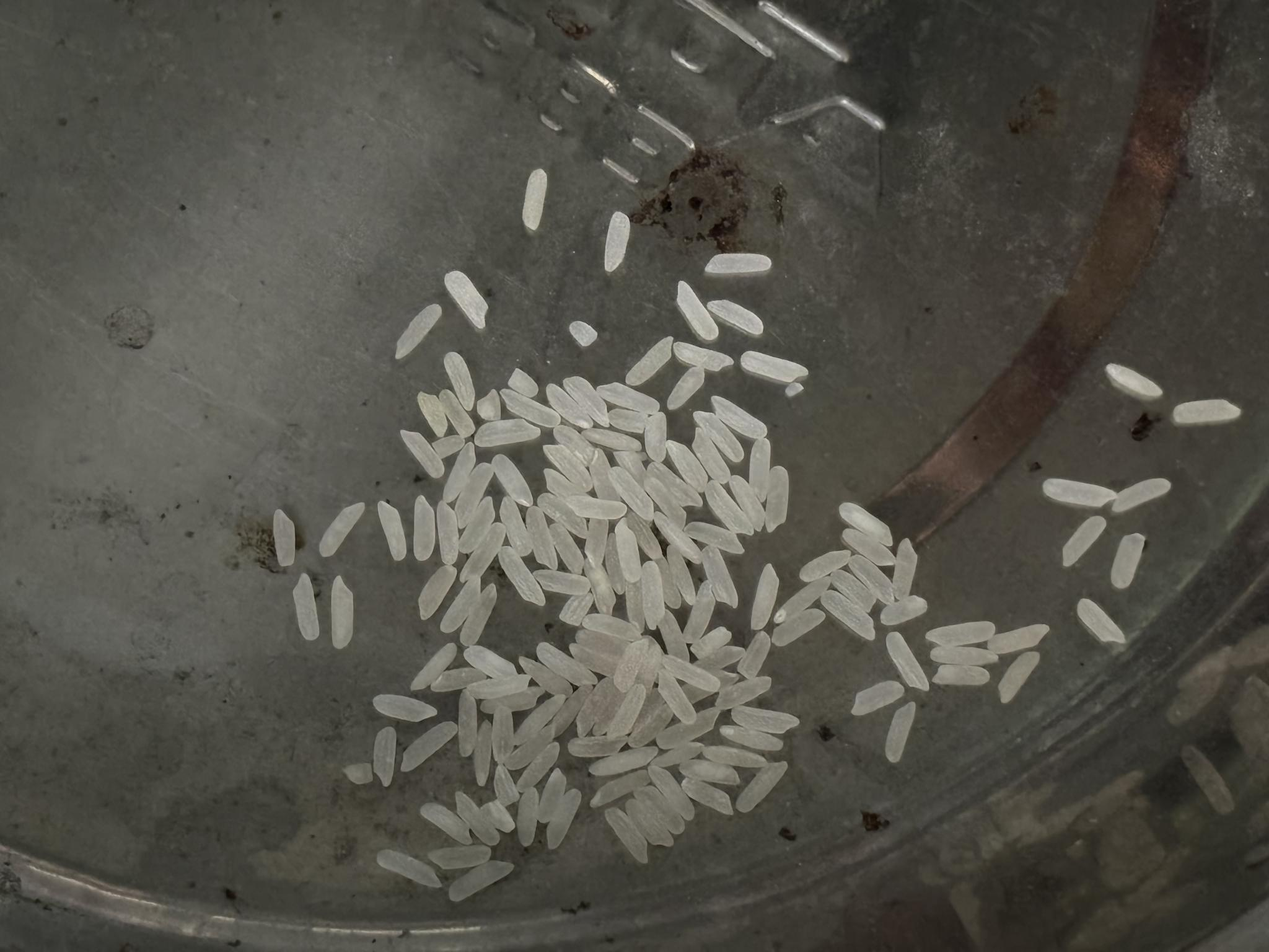Rice-th-y-nh: (545, 483, 627, 529), (655, 701, 722, 756), (447, 853, 515, 907), (398, 717, 459, 775), (376, 843, 443, 895), (496, 544, 547, 609), (535, 637, 597, 690), (499, 383, 562, 435), (573, 674, 623, 739), (820, 587, 876, 645), (590, 738, 659, 785), (459, 520, 508, 586), (450, 461, 496, 530), (646, 457, 703, 512), (590, 763, 652, 813), (774, 572, 831, 626), (696, 544, 743, 609), (475, 411, 542, 456), (703, 479, 753, 539), (317, 499, 367, 559), (647, 762, 696, 823), (684, 512, 745, 561), (631, 560, 673, 631), (883, 631, 931, 693), (546, 682, 594, 744), (693, 407, 745, 464), (736, 758, 788, 815), (514, 690, 565, 747), (394, 302, 443, 361), (603, 806, 650, 867), (678, 581, 722, 646), (427, 835, 492, 879), (771, 602, 827, 653), (711, 392, 767, 443), (444, 268, 490, 330), (608, 465, 656, 524), (537, 487, 589, 541), (653, 509, 702, 566), (674, 280, 719, 342), (757, 465, 798, 533), (453, 790, 501, 848), (521, 506, 563, 572), (439, 575, 485, 635), (745, 563, 785, 632), (518, 651, 573, 701), (847, 551, 897, 606), (704, 245, 772, 285), (543, 789, 586, 852), (543, 440, 594, 493), (604, 683, 649, 743), (625, 335, 675, 389), (584, 448, 624, 515), (466, 666, 531, 707), (622, 797, 674, 848), (660, 544, 702, 607), (495, 495, 536, 559), (420, 798, 472, 848), (414, 562, 458, 621), (654, 667, 698, 726), (1074, 597, 1128, 645), (627, 698, 675, 752), (398, 426, 445, 481), (439, 441, 480, 504), (664, 438, 709, 495), (563, 374, 611, 427), (690, 427, 733, 486), (516, 740, 562, 795), (490, 452, 535, 508), (449, 689, 486, 757), (610, 518, 648, 584), (372, 500, 413, 561), (636, 785, 687, 834), (410, 641, 458, 693), (727, 474, 770, 532), (1061, 514, 1108, 567), (996, 650, 1043, 703), (1042, 476, 1115, 510), (430, 659, 489, 701), (643, 474, 688, 529), (464, 721, 502, 786), (611, 635, 652, 695), (457, 496, 498, 556), (567, 727, 630, 766), (429, 500, 466, 566), (441, 350, 481, 411), (929, 640, 998, 675), (406, 495, 442, 562), (741, 349, 806, 386), (886, 538, 924, 601), (568, 636, 621, 681), (838, 500, 892, 544), (366, 725, 404, 787), (461, 587, 500, 647), (660, 654, 720, 693), (924, 618, 997, 650), (598, 210, 635, 273), (533, 562, 591, 602), (730, 703, 800, 736), (545, 382, 593, 430), (830, 568, 879, 615), (598, 380, 661, 416), (595, 533, 632, 594), (509, 786, 546, 847), (547, 521, 587, 577), (654, 608, 693, 665), (372, 690, 437, 724), (743, 437, 777, 502), (581, 610, 642, 646), (709, 298, 765, 337), (532, 768, 571, 824), (463, 643, 519, 682), (681, 776, 734, 817), (850, 678, 904, 718), (1112, 477, 1172, 513), (291, 572, 322, 641), (734, 629, 775, 681), (328, 577, 358, 648), (437, 387, 477, 440), (1105, 363, 1162, 400), (486, 706, 521, 766), (1109, 532, 1145, 590), (715, 675, 773, 711), (883, 702, 917, 763), (842, 529, 896, 567), (624, 512, 665, 562), (478, 686, 542, 717), (583, 423, 643, 456), (1171, 397, 1241, 425), (798, 548, 852, 584), (721, 723, 783, 754), (703, 741, 765, 772), (990, 623, 1048, 656), (553, 425, 596, 469), (650, 558, 685, 612), (665, 366, 706, 412), (682, 756, 742, 787), (673, 341, 731, 373), (584, 564, 618, 618), (520, 169, 549, 232), (691, 641, 746, 674), (638, 412, 673, 463), (543, 467, 594, 502), (614, 447, 654, 491), (270, 509, 298, 569), (880, 594, 929, 628), (932, 662, 990, 690), (689, 624, 734, 660), (416, 392, 450, 439), (652, 740, 701, 770), (558, 591, 595, 628), (480, 798, 516, 833), (492, 763, 520, 805), (608, 407, 649, 434), (475, 388, 506, 422), (507, 367, 539, 399), (432, 431, 466, 461), (342, 760, 375, 787), (569, 320, 599, 347), (784, 381, 805, 398)
